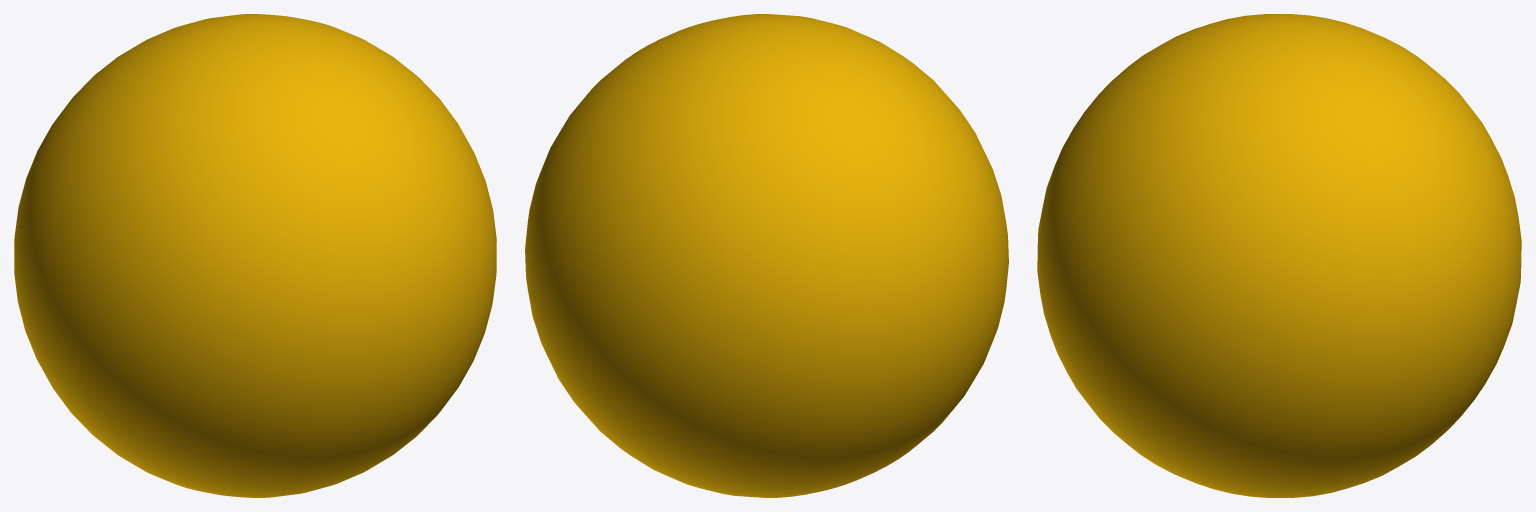
The model's file is SPHERE_YELLOW.fbx.
3 views of the same model, side by side, from view 1: azimuth 30°, elevation 25°; view 2: azimuth 150°, elevation 25°; view 3: azimuth 270°, elevation 25° (orthographic).
Visible parts, largest first — view 1: Sphere_1_4; view 2: Sphere_1_4; view 3: Sphere_1_4.
Part boxes in pixels (<box>): Sphere_1_4: <box>14,14,496,497</box>; Sphere_1_4: <box>525,14,1008,497</box>; Sphere_1_4: <box>1037,14,1521,497</box>.
Size of the model in its own units: 99.81 by 99.94 by 99.75.
